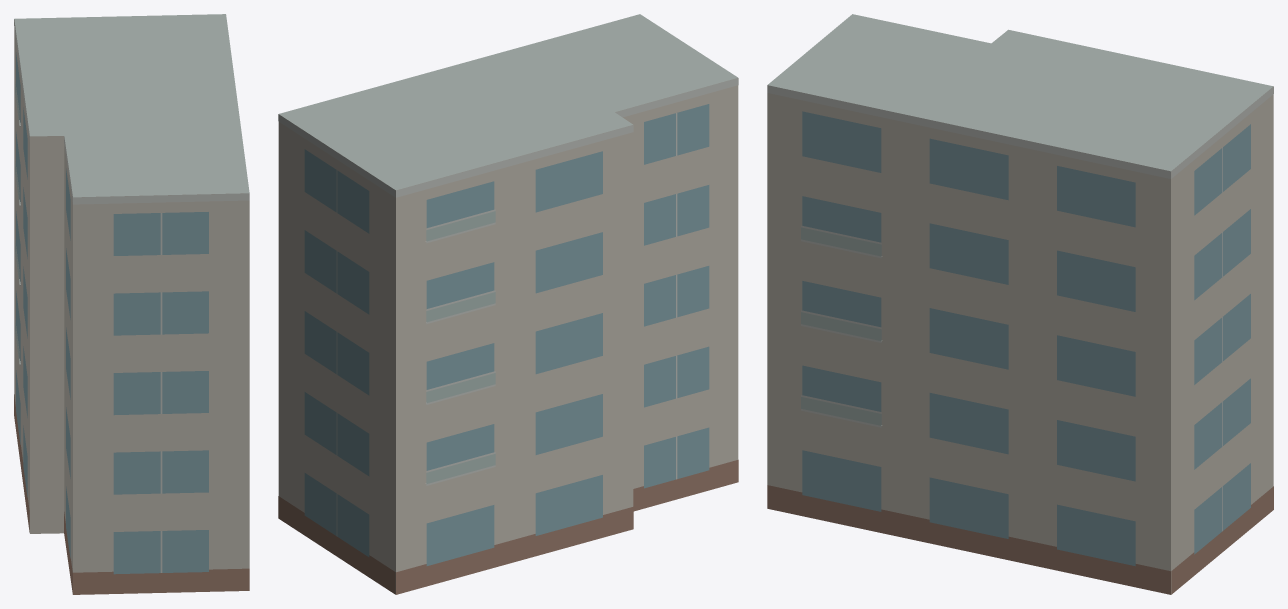
File: survey-upis-32551481.glb
3 renders of one model, left to right at view 1: azimuth 30°, elevation 25°; view 2: azimuth 150°, elevation 25°; view 3: azimuth 270°, elevation 25°, orthographic. The views are drawn at different scales.
Parts seen in each view (by area): view 1: survey-upis-32551481.tmp; view 2: survey-upis-32551481.tmp; view 3: survey-upis-32551481.tmp.
Boxes of the visible parts, x1,y1,x2,y2 form: survey-upis-32551481.tmp: (14,14,249,594); survey-upis-32551481.tmp: (278,14,738,594); survey-upis-32551481.tmp: (767,14,1273,594).
Size of the model in its own units: 10.56 by 13.25 by 14.37.
